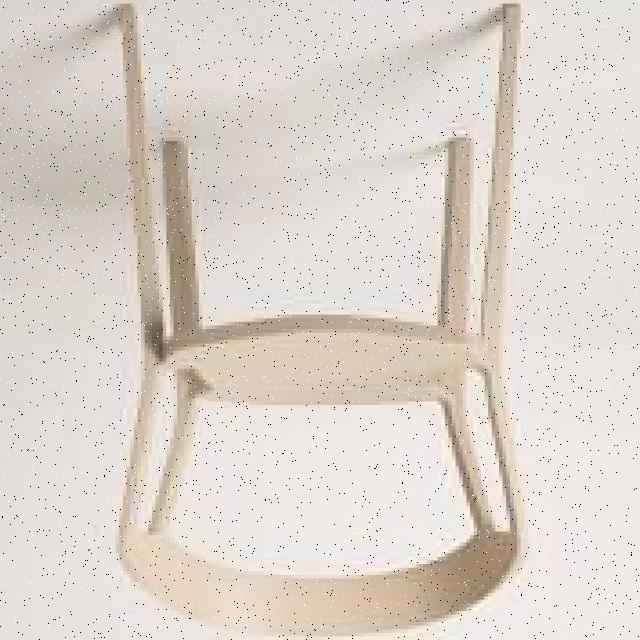bottle: (112, 6, 526, 637)
